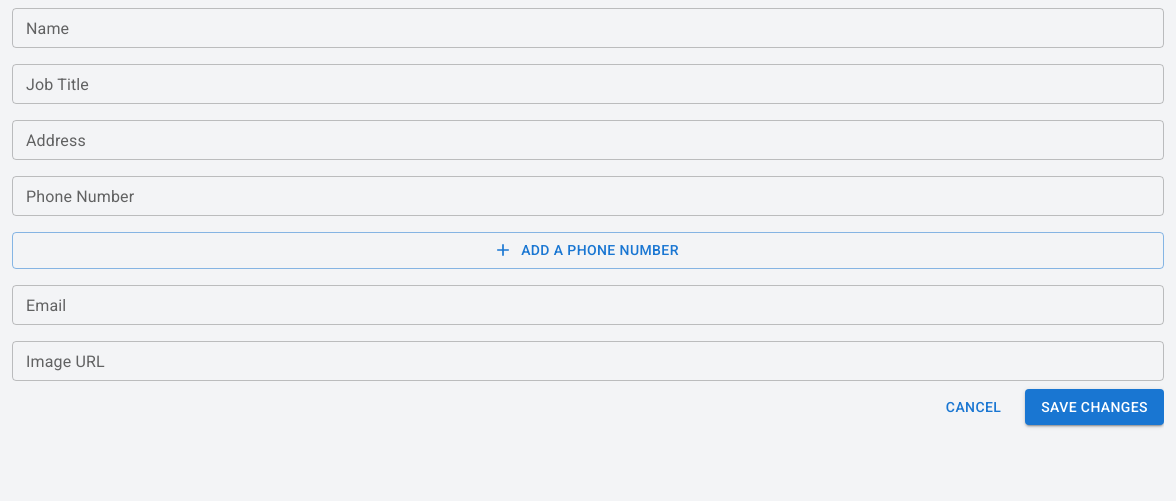
ContactForm › without initial values › removes phone field
Click the button "Add a Phone Number".
click(588, 250)  # box left=12, top=232, right=1164, bottom=268
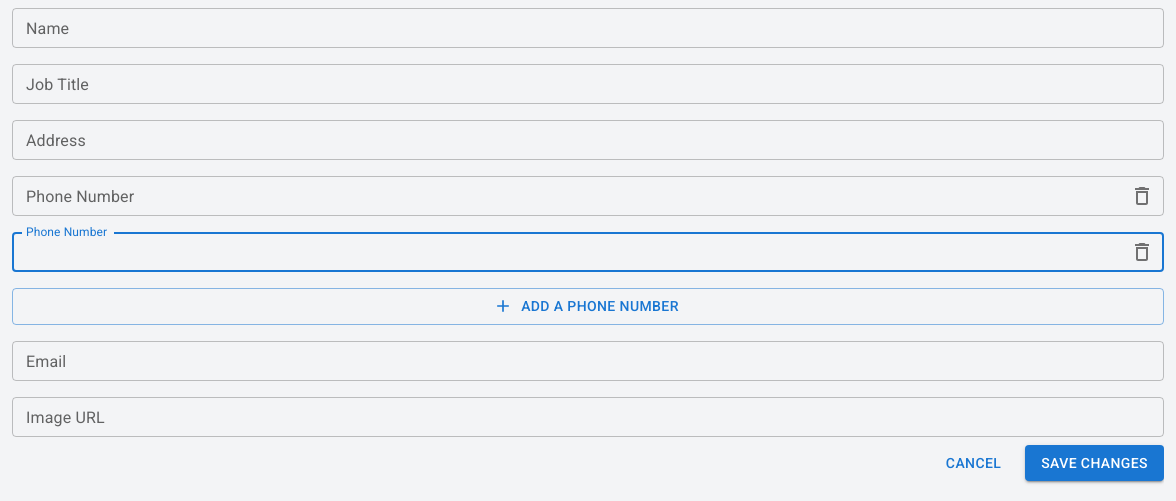
Click the button named "delete phone field 0".
click(1142, 196)  # box left=1122, top=176, right=1162, bottom=216
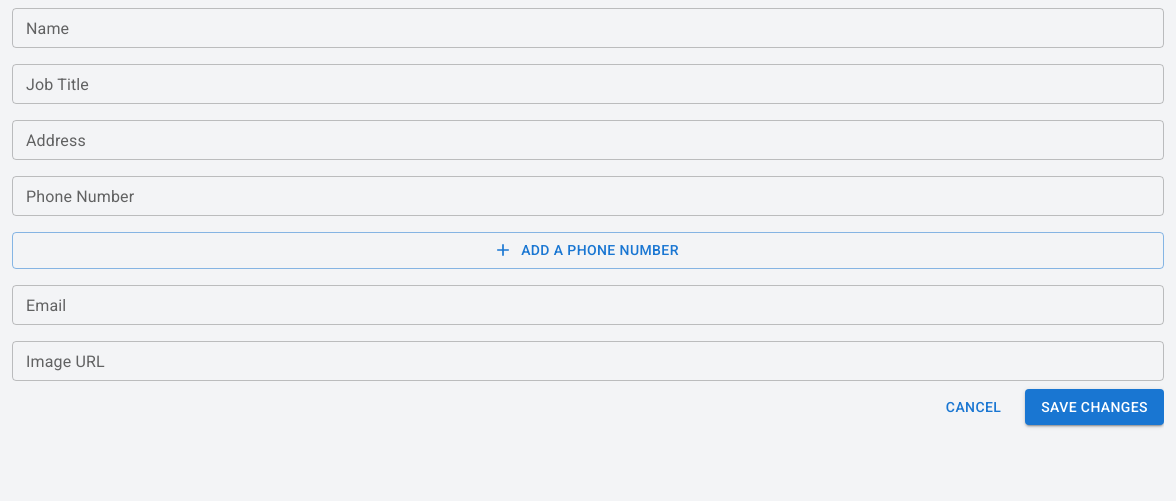
expect the number of fields labelled "Phone Number" is 1: met, box left=12, top=176, right=1164, bottom=216
